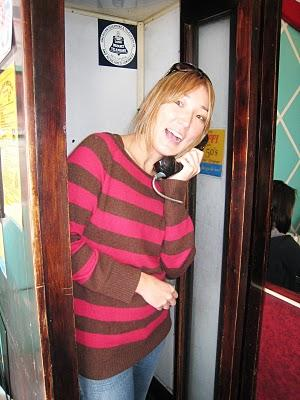person: (64, 60, 214, 400)
